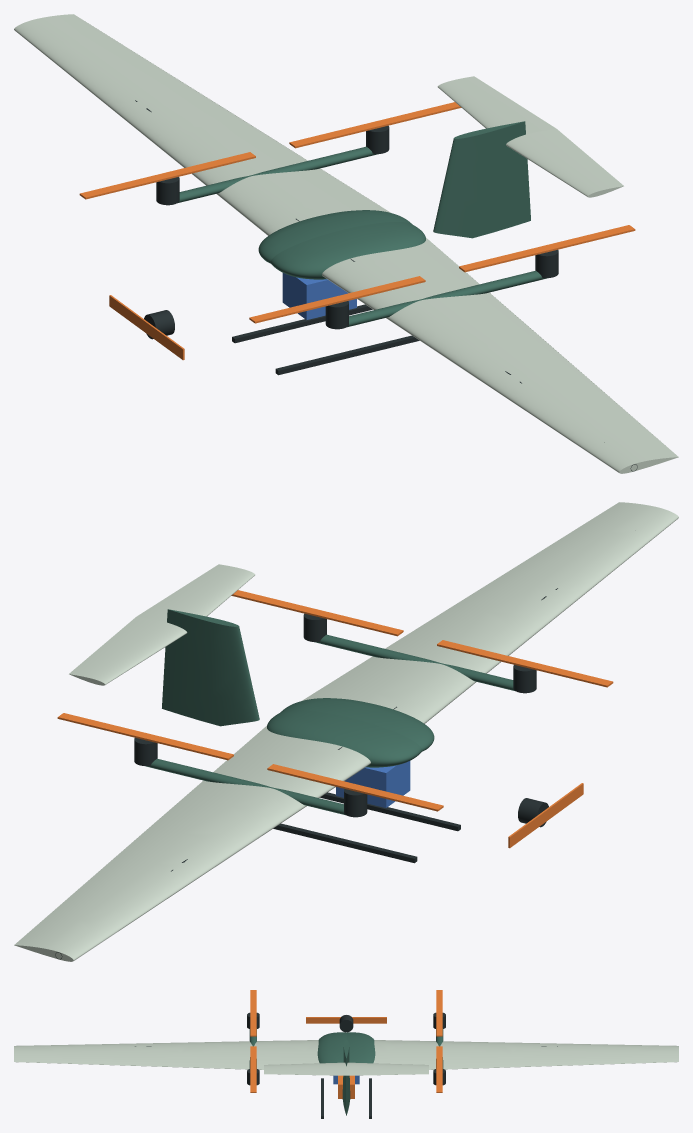
Rendered from control-12-internal.glb.
The picture shows the model from 3 angles, top to bottom: view 1: azimuth 30°, elevation 25°; view 2: azimuth 150°, elevation 25°; view 3: azimuth 270°, elevation 25°; orthographic projection. The views are drawn at different scales.
Parts seen in each view (by area): view 1: wing-1, wing1, fin, root_fairing-1, tail-1, tail1, root_fairing1, payload, boom_fairing-1, boom_fairing1, prop_-1_200.0, prop_-1_700.0 (+5 smaller); view 2: wing1, wing-1, fin, root_fairing1, tail1, tail-1, root_fairing-1, payload, boom_fairing1, boom_fairing-1, prop_1_200.0, prop_1_700.0 (+5 smaller); view 3: wing-1, wing1, tail-1, tail1, root_fairing-1, root_fairing1, cruise_prop, fin, prop_-1_200.0, prop_-1_700.0, prop_1_200.0, prop_1_700.0 (+2 smaller).
Boxes of the visible parts, x1,y1,x2,y2 form: wing-1: (322,238,678,473); wing1: (14,14,390,235); fin: (433,121,530,238); root_fairing-1: (270,222,425,279); tail-1: (506,128,623,197); tail1: (437,76,555,134); root_fairing1: (258,210,412,263); payload: (282,273,356,319); boom_fairing-1: (347,270,548,327); boom_fairing1: (177,146,378,203); prop_-1_200.0: (249,276,425,323); prop_-1_700.0: (459,225,635,272); wing1: (14,726,370,961); wing-1: (302,502,678,723); fin: (162,609,259,726); root_fairing1: (267,710,422,767); tail1: (69,616,187,685); tail-1: (137,564,255,622); root_fairing-1: (280,698,434,751); payload: (336,761,410,807); boom_fairing1: (145,758,345,815); boom_fairing-1: (314,634,515,691); prop_1_200.0: (267,764,443,811); prop_1_700.0: (57,713,233,760); wing-1: (14,1040,319,1069); wing1: (373,1040,678,1069); tail-1: (264,1062,346,1075); tail1: (346,1062,428,1075); root_fairing-1: (317,1032,346,1063); root_fairing1: (346,1032,375,1063); cruise_prop: (306,1017,386,1023); fin: (342,1040,350,1115); prop_-1_200.0: (250,990,256,1036); prop_-1_700.0: (250,1046,256,1092); prop_1_200.0: (436,990,442,1036); prop_1_700.0: (436,1046,442,1092).
Bounding box in the file's own units: 979 × 390 × 2500.
